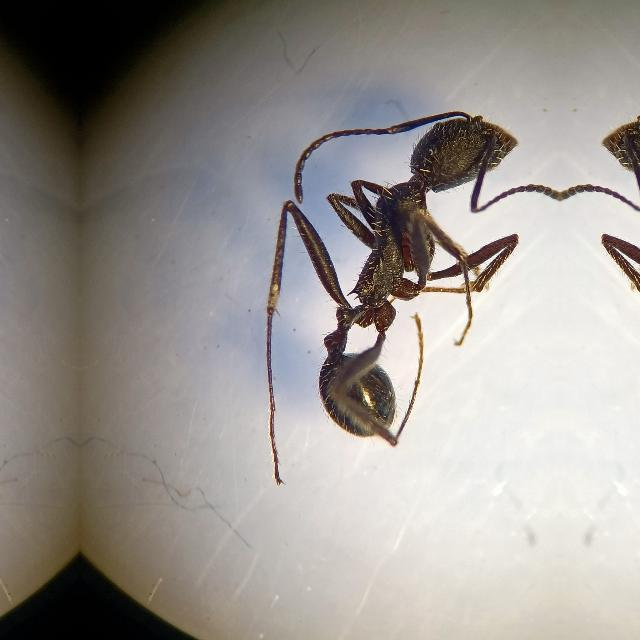Apheanogaster: (284, 63, 536, 475), (584, 63, 640, 475)
